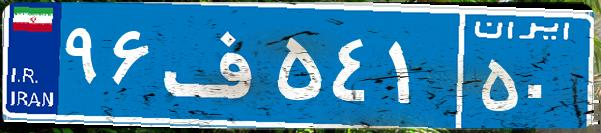0: (525, 38, 570, 115)
1: (385, 28, 445, 110)
4: (330, 28, 385, 110)
5: (273, 28, 330, 110), (475, 38, 525, 113)
6: (110, 28, 158, 105)
9: (57, 26, 110, 107)
ف: (158, 15, 273, 115)
